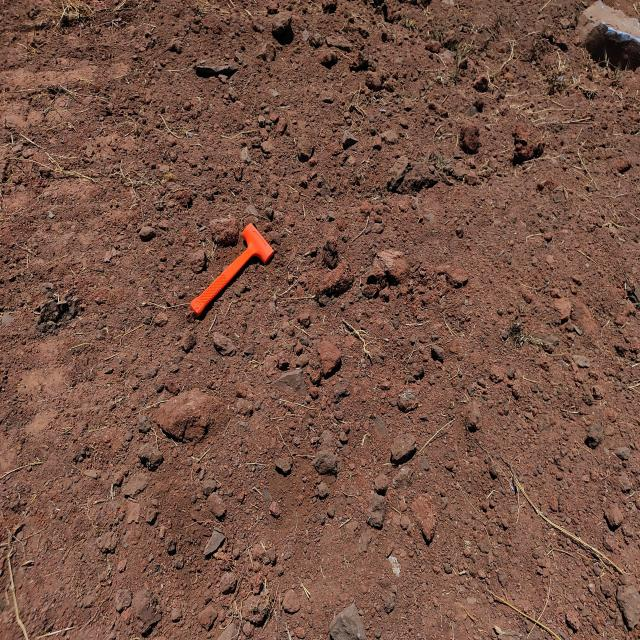Orange_hammer: (189, 222, 275, 318)
